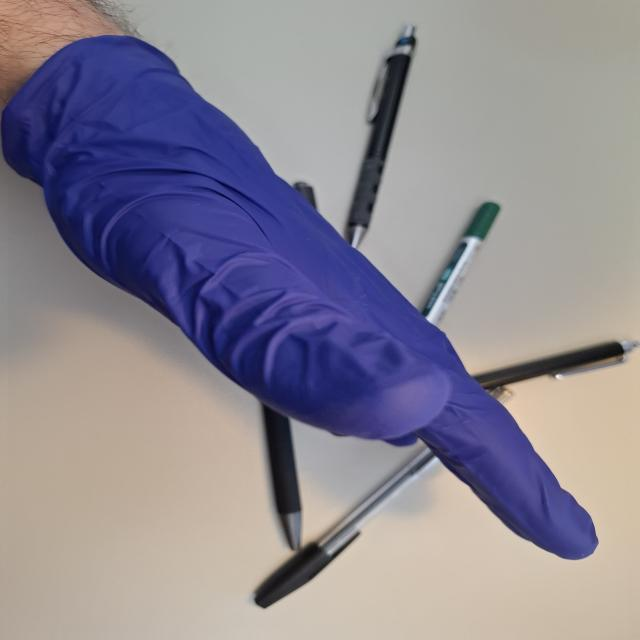glove_on: (0, 31, 604, 566)
